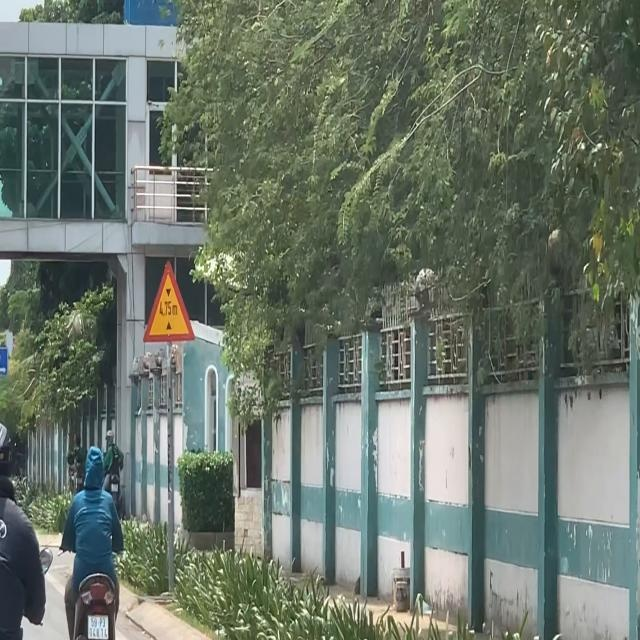bien_nguy_hiem: (141, 258, 198, 346)
